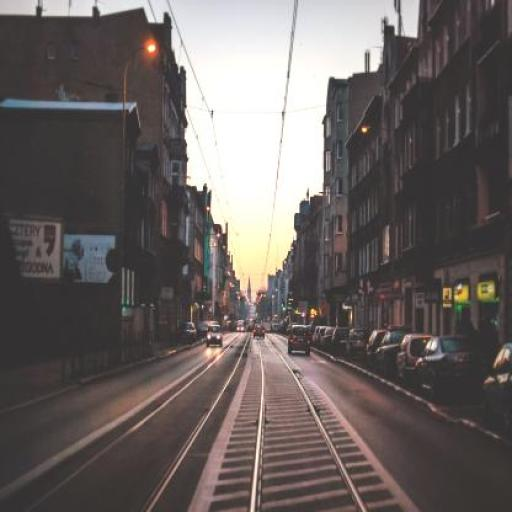street light: (118, 44, 156, 355), (362, 126, 398, 346), (155, 176, 190, 351), (319, 192, 353, 340), (183, 205, 211, 333), (292, 246, 302, 323), (284, 260, 295, 324)
